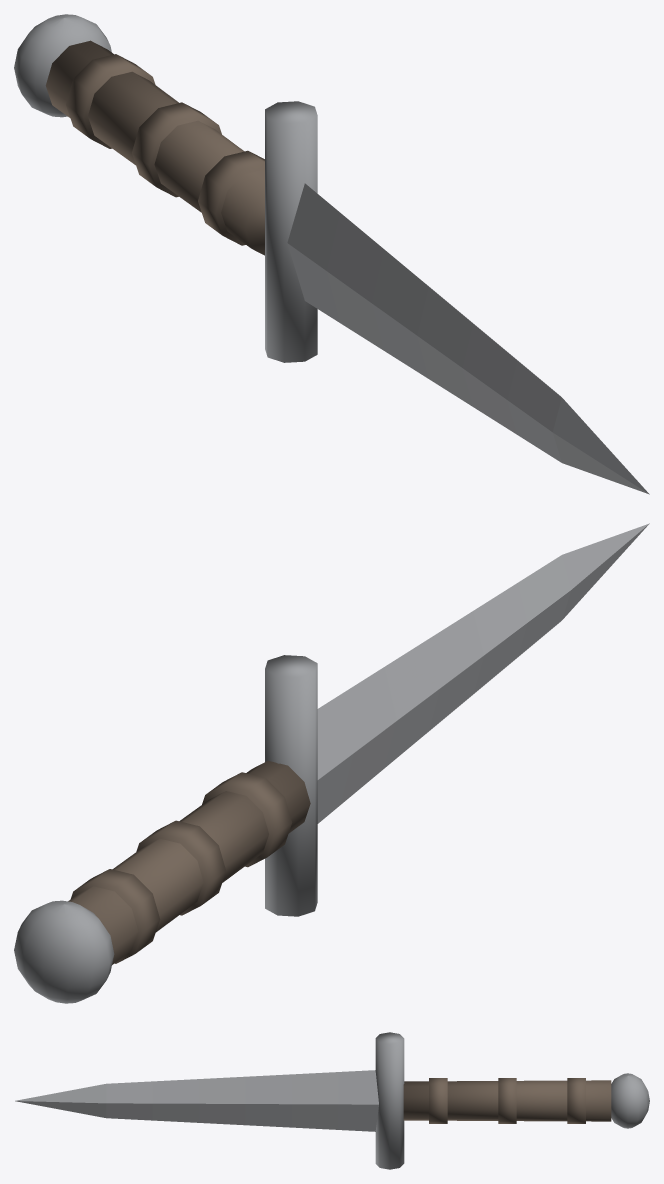
Rendered from Dagger.fbx.
3 renders of one model, top to bottom at view 1: azimuth 30°, elevation 25°; view 2: azimuth 150°, elevation 25°; view 3: azimuth 270°, elevation 25°, orthographic. The views are drawn at different scales.
Parts seen in each view (by area): view 1: Dagger; view 2: Dagger; view 3: Dagger.
Part boxes in pixels (x1=…): Dagger: x1=14, y1=14, x2=649, y2=494; Dagger: x1=14, y1=523, x2=649, y2=1003; Dagger: x1=15, y1=1032, x2=649, y2=1169.
Bounding box in the file's own units: 2.4 × 6 × 27.58.
